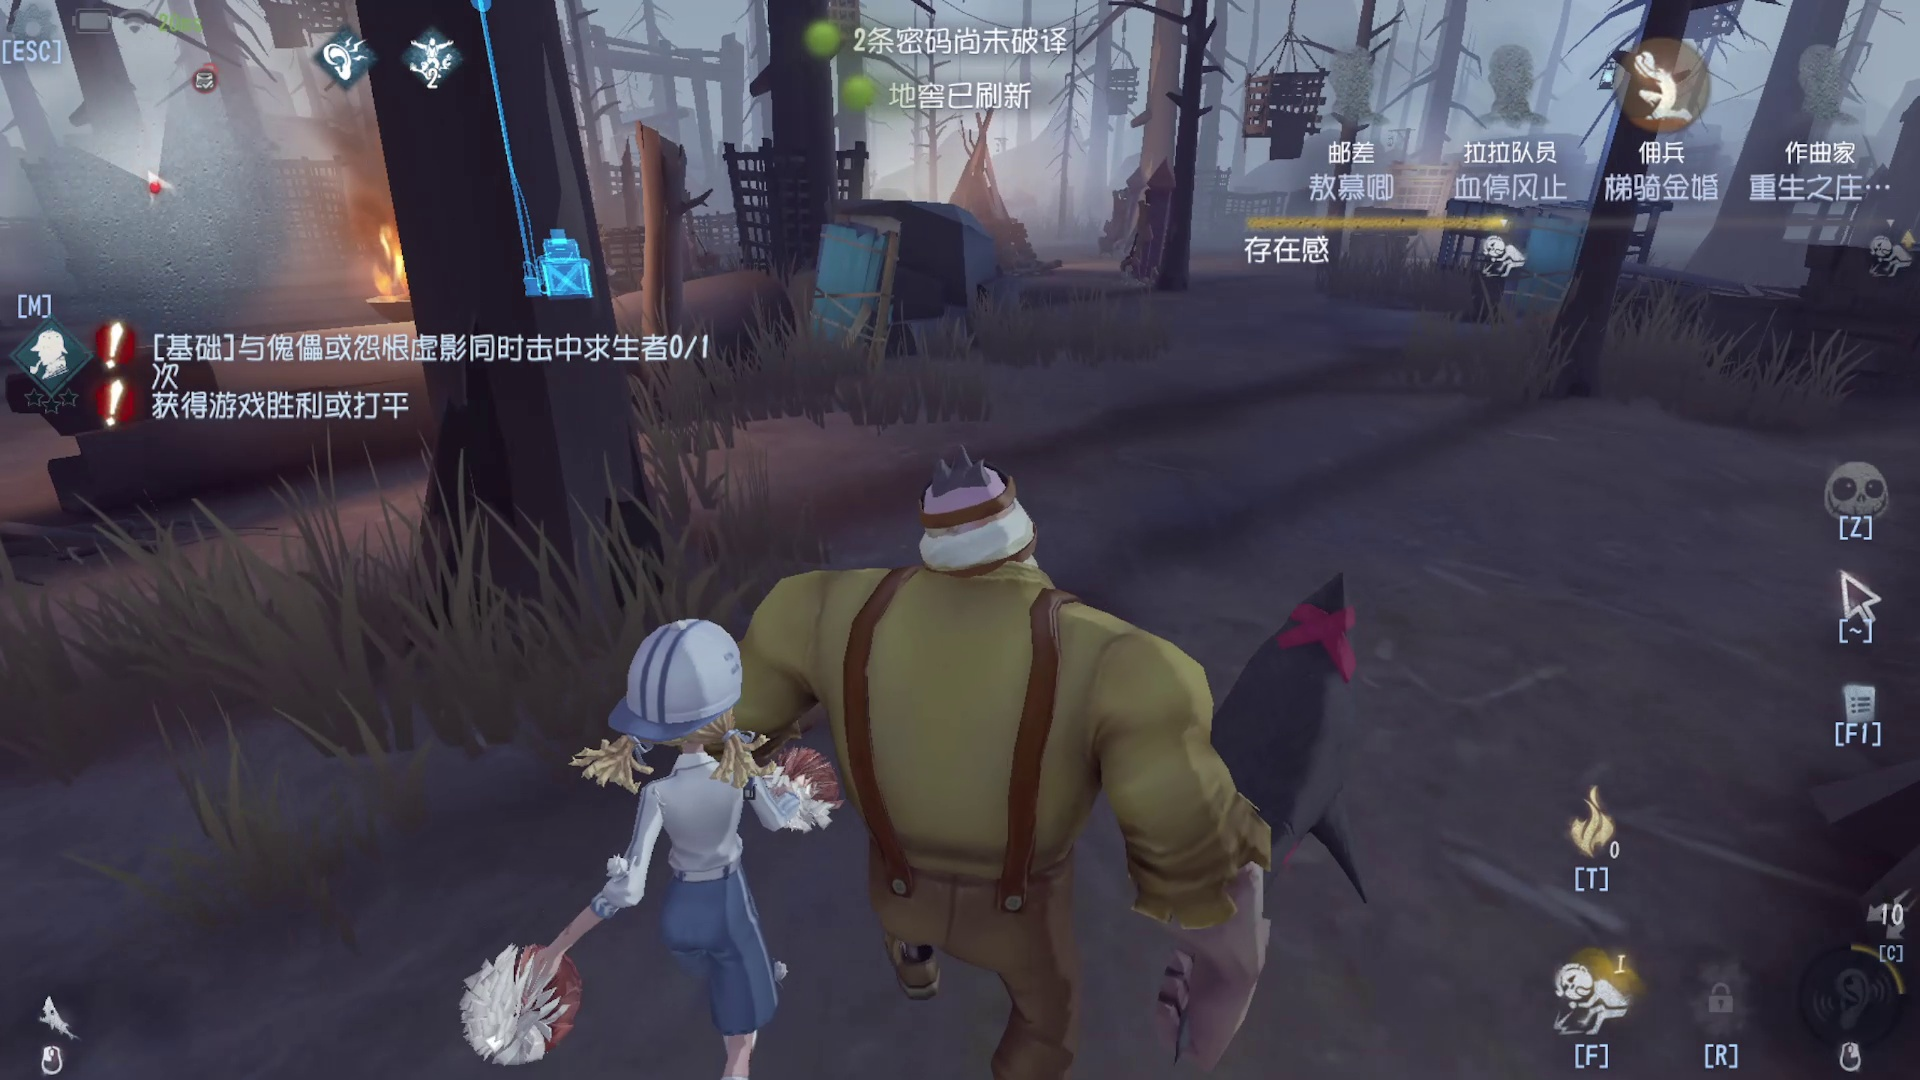密码机: (435, 38, 629, 401)
木板: (775, 195, 916, 386), (1513, 189, 1593, 334)
求生者: (477, 615, 783, 1044)
狂欢之椅: (1114, 156, 1199, 294)
